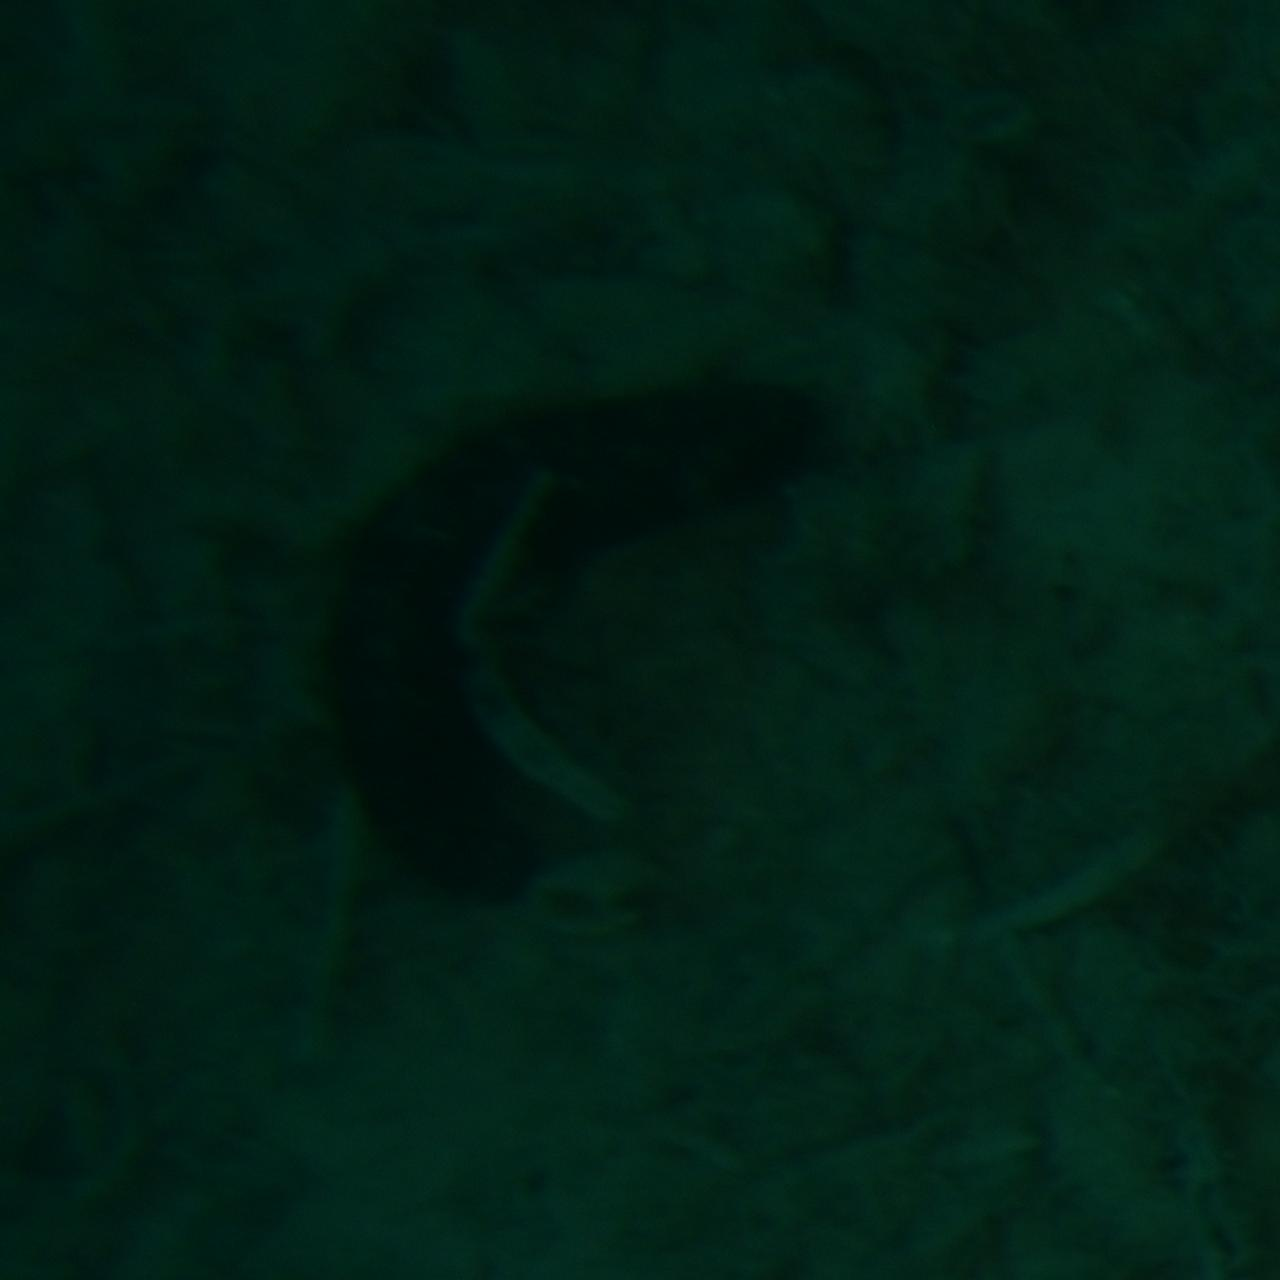Holothuria tubulosa: (342, 367, 847, 913)
